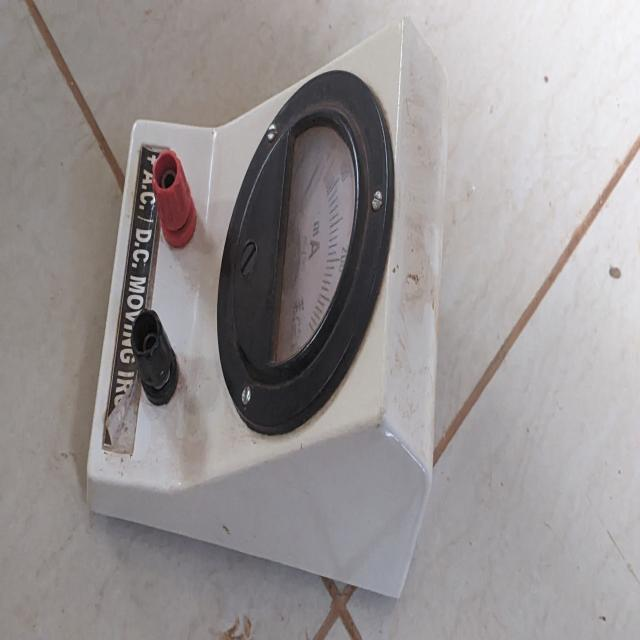Ammeter Analog: (86, 4, 438, 596)
